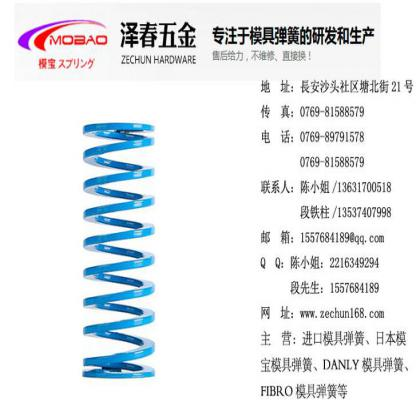FOD: (80, 118, 160, 380)
